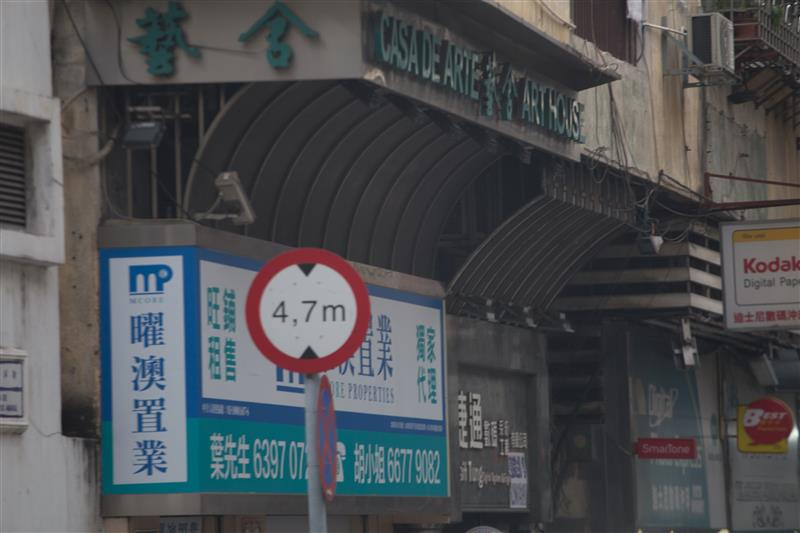4.7mHeightLimit: (241, 246, 372, 377)
noStopping: (314, 377, 337, 493)
